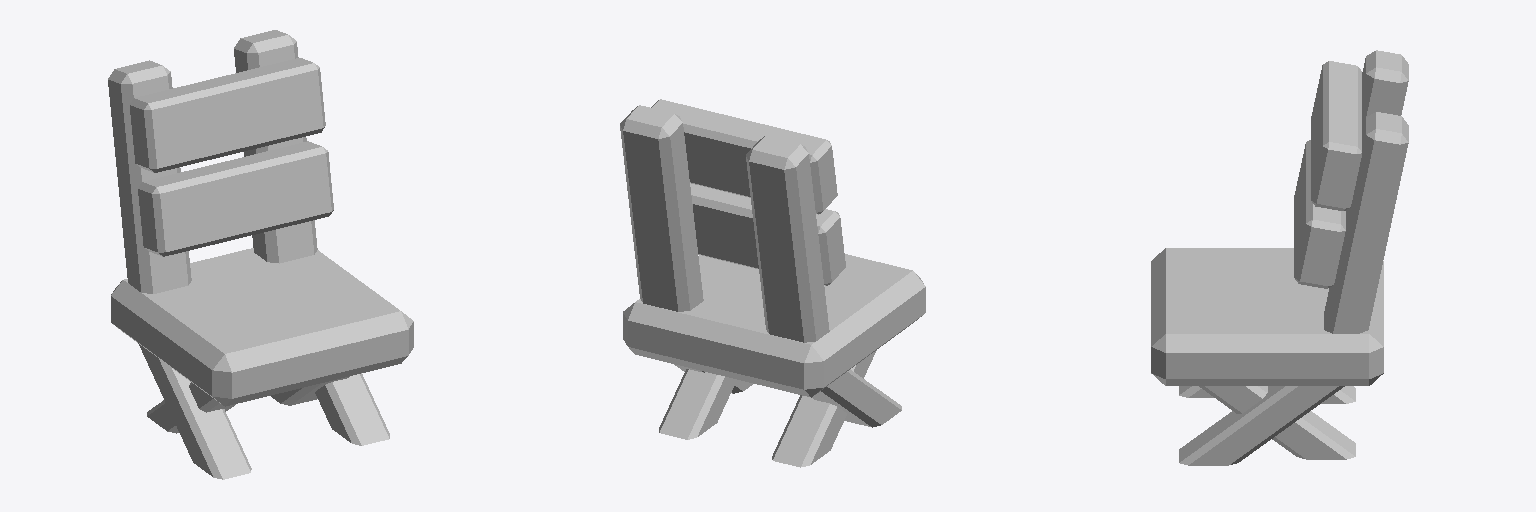
File: chair_A.obj
The picture shows the model from 3 angles: view 1: azimuth 30°, elevation 25°; view 2: azimuth 150°, elevation 25°; view 3: azimuth 270°, elevation 25°; orthographic projection.
Visible parts, largest first — view 1: chair_A; view 2: chair_A; view 3: chair_A.
Part boxes in pixels (x1,y1,x2,y2): chair_A: (108,30,413,479); chair_A: (620,99,925,467); chair_A: (1151,50,1408,465).
Size of the model in its own units: 0.8 by 1.26 by 0.8856.